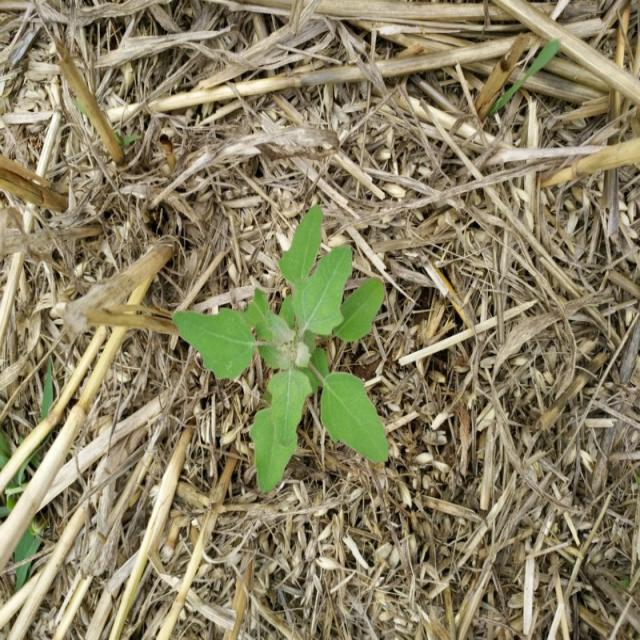ca: (175, 211, 388, 491)
